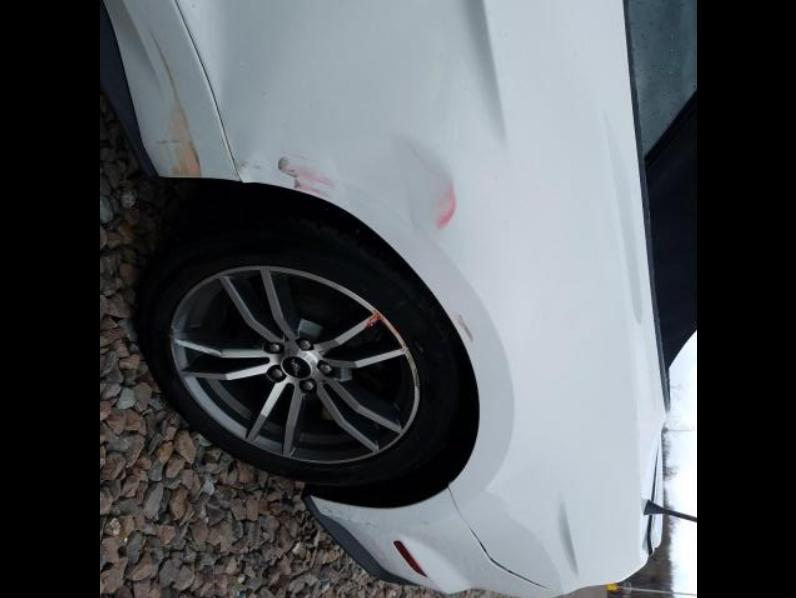Dent: (351, 138, 458, 253)
Flaking: (217, 104, 260, 175), (311, 497, 379, 530), (210, 107, 236, 174)
Scratch: (138, 16, 202, 178), (272, 147, 343, 200), (434, 184, 458, 228), (455, 311, 481, 344), (366, 306, 391, 325)
